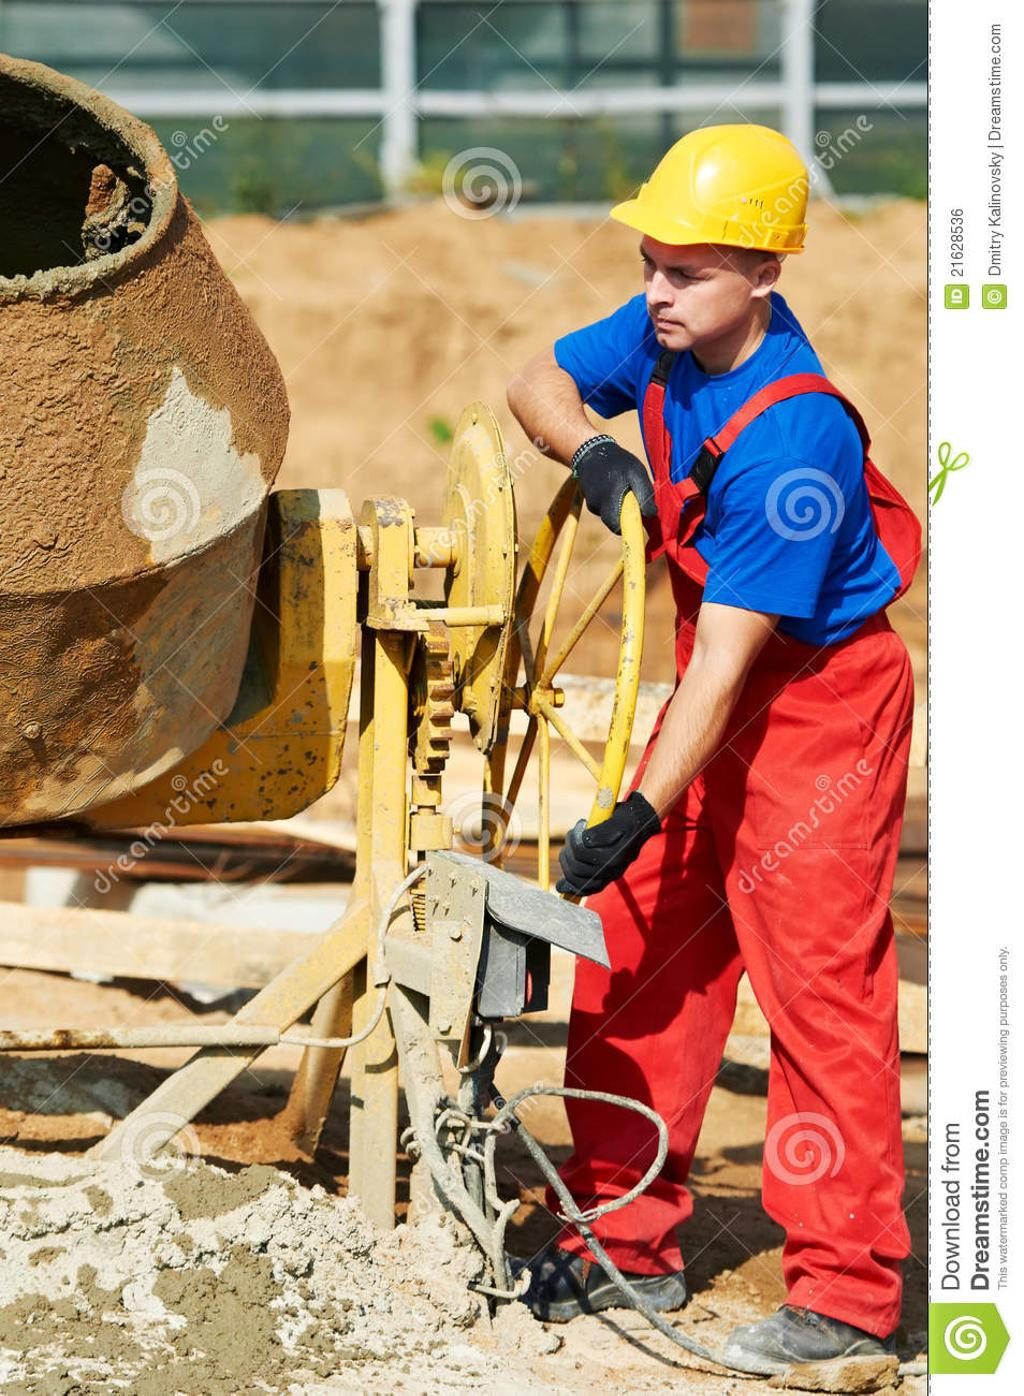face: (645, 202, 754, 346)
